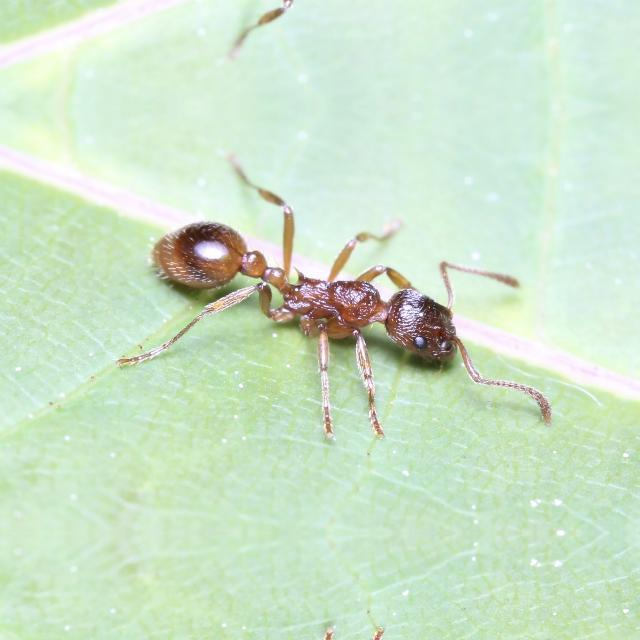Myrmica: (121, 190, 502, 382)
